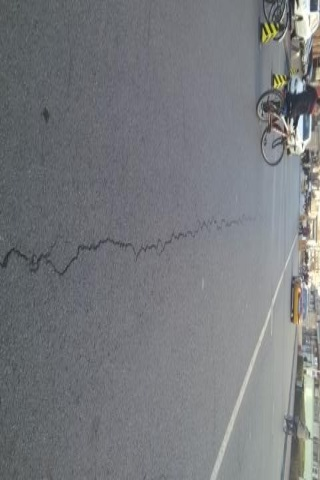A: (1, 215, 260, 279)
